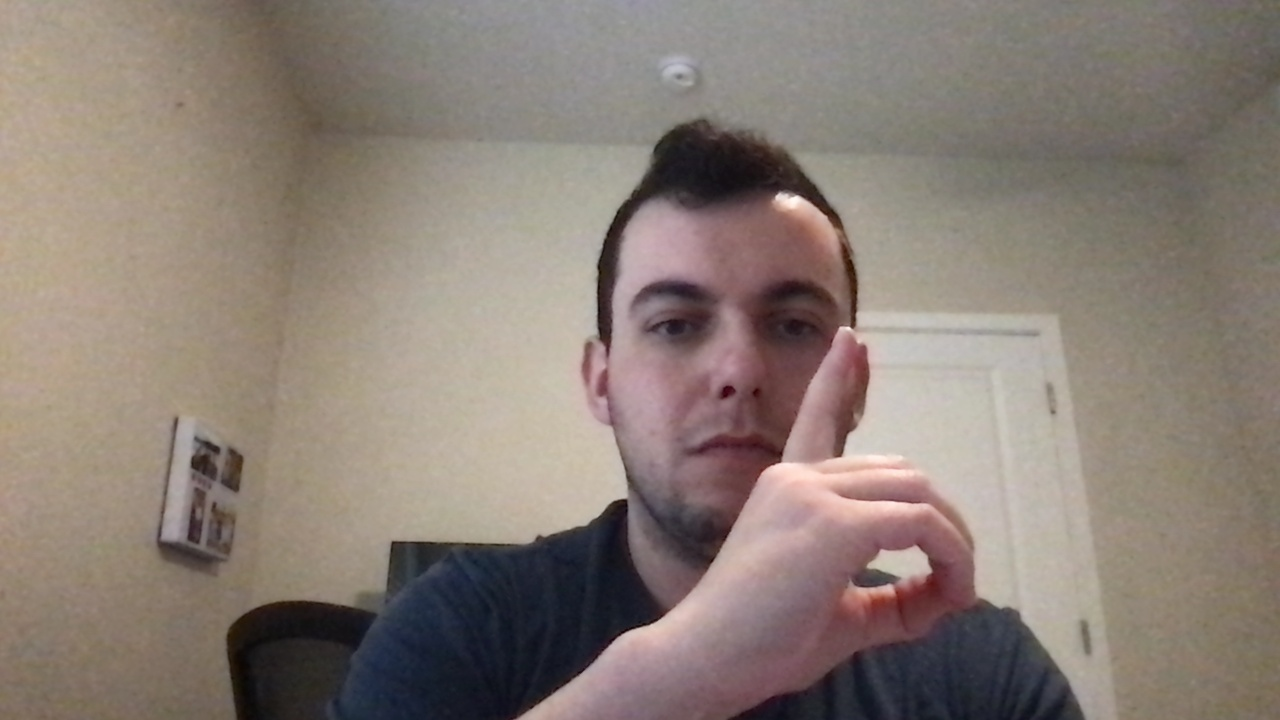d: (697, 320, 1008, 700)
